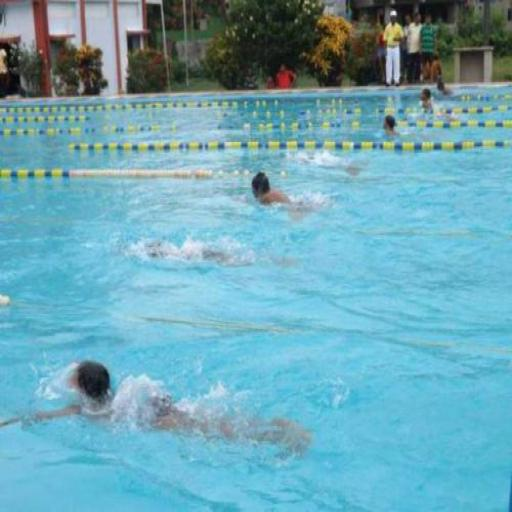swimming: (0, 357, 315, 464), (379, 110, 402, 140)
